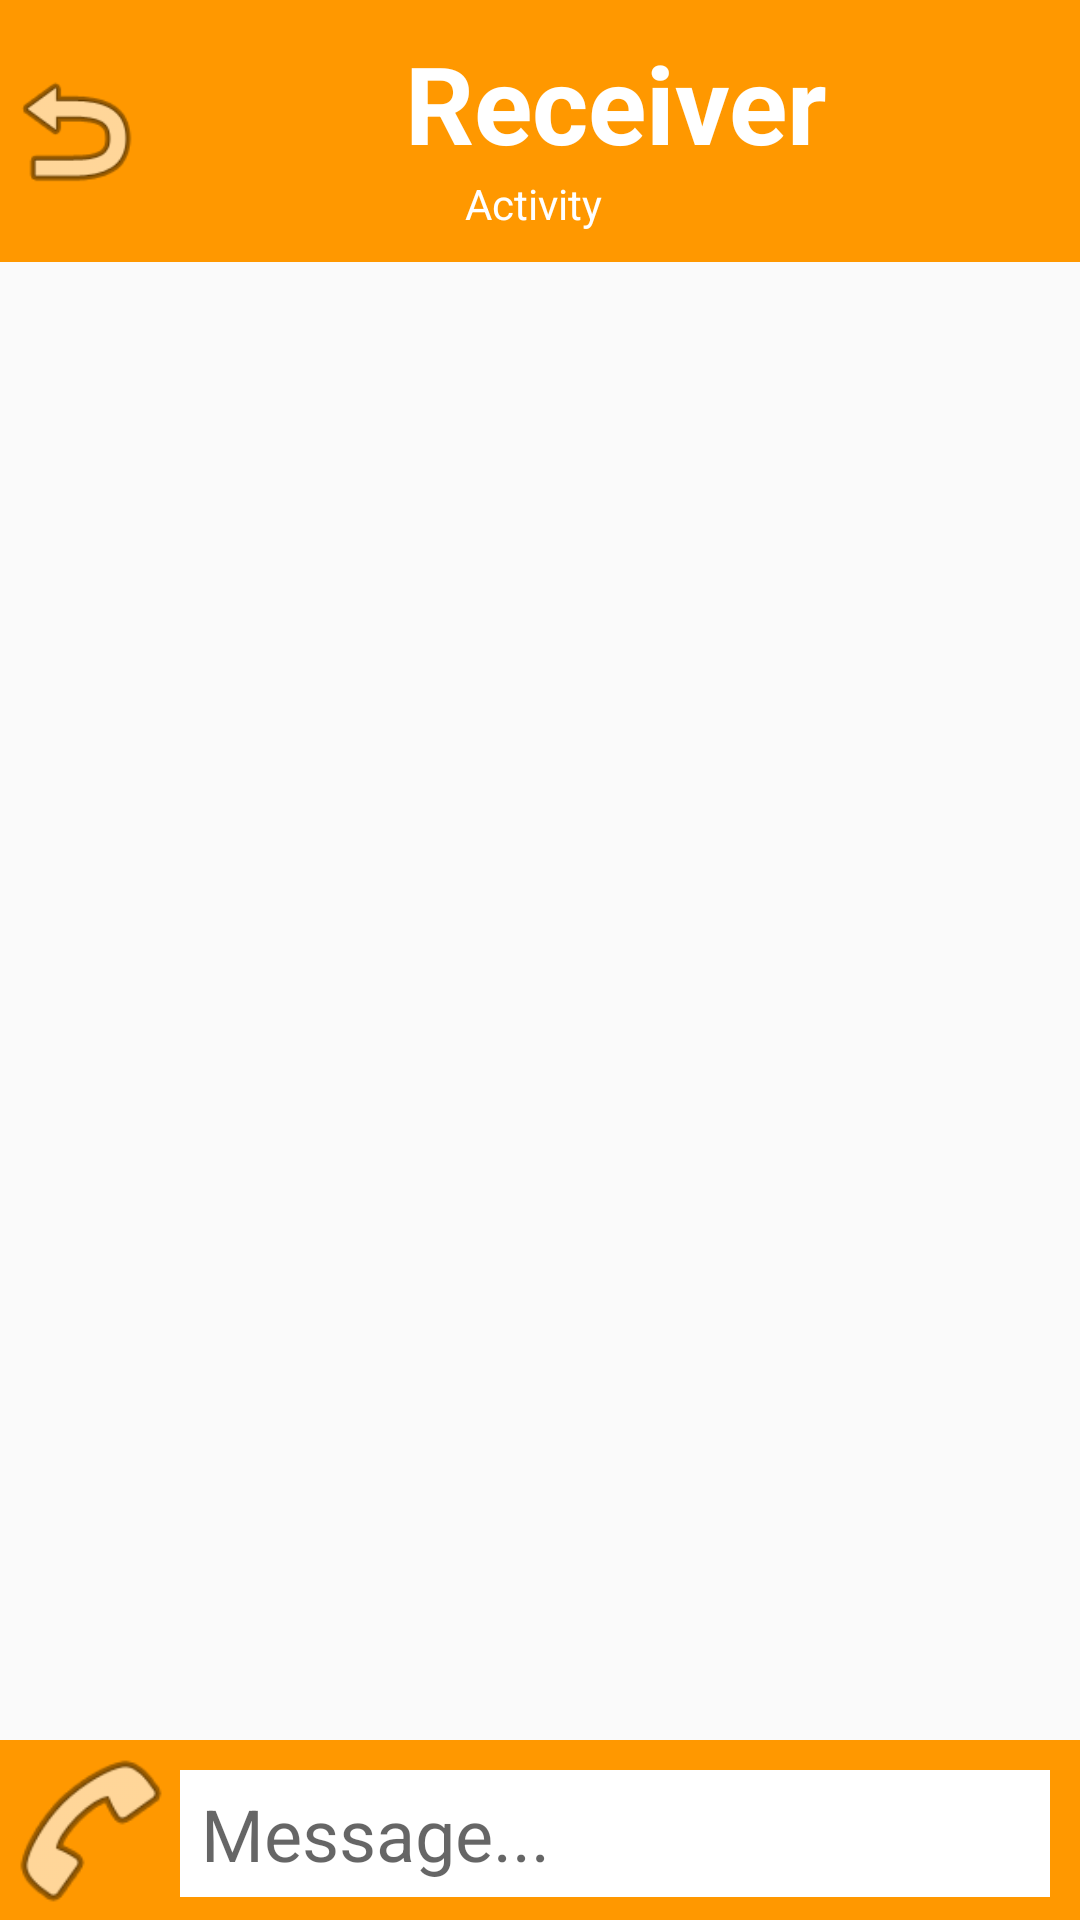

Point at icon controls on the screen. Image size 1080×1920, points as [x,y].
call: [90,1830]
revert: [77,132]
